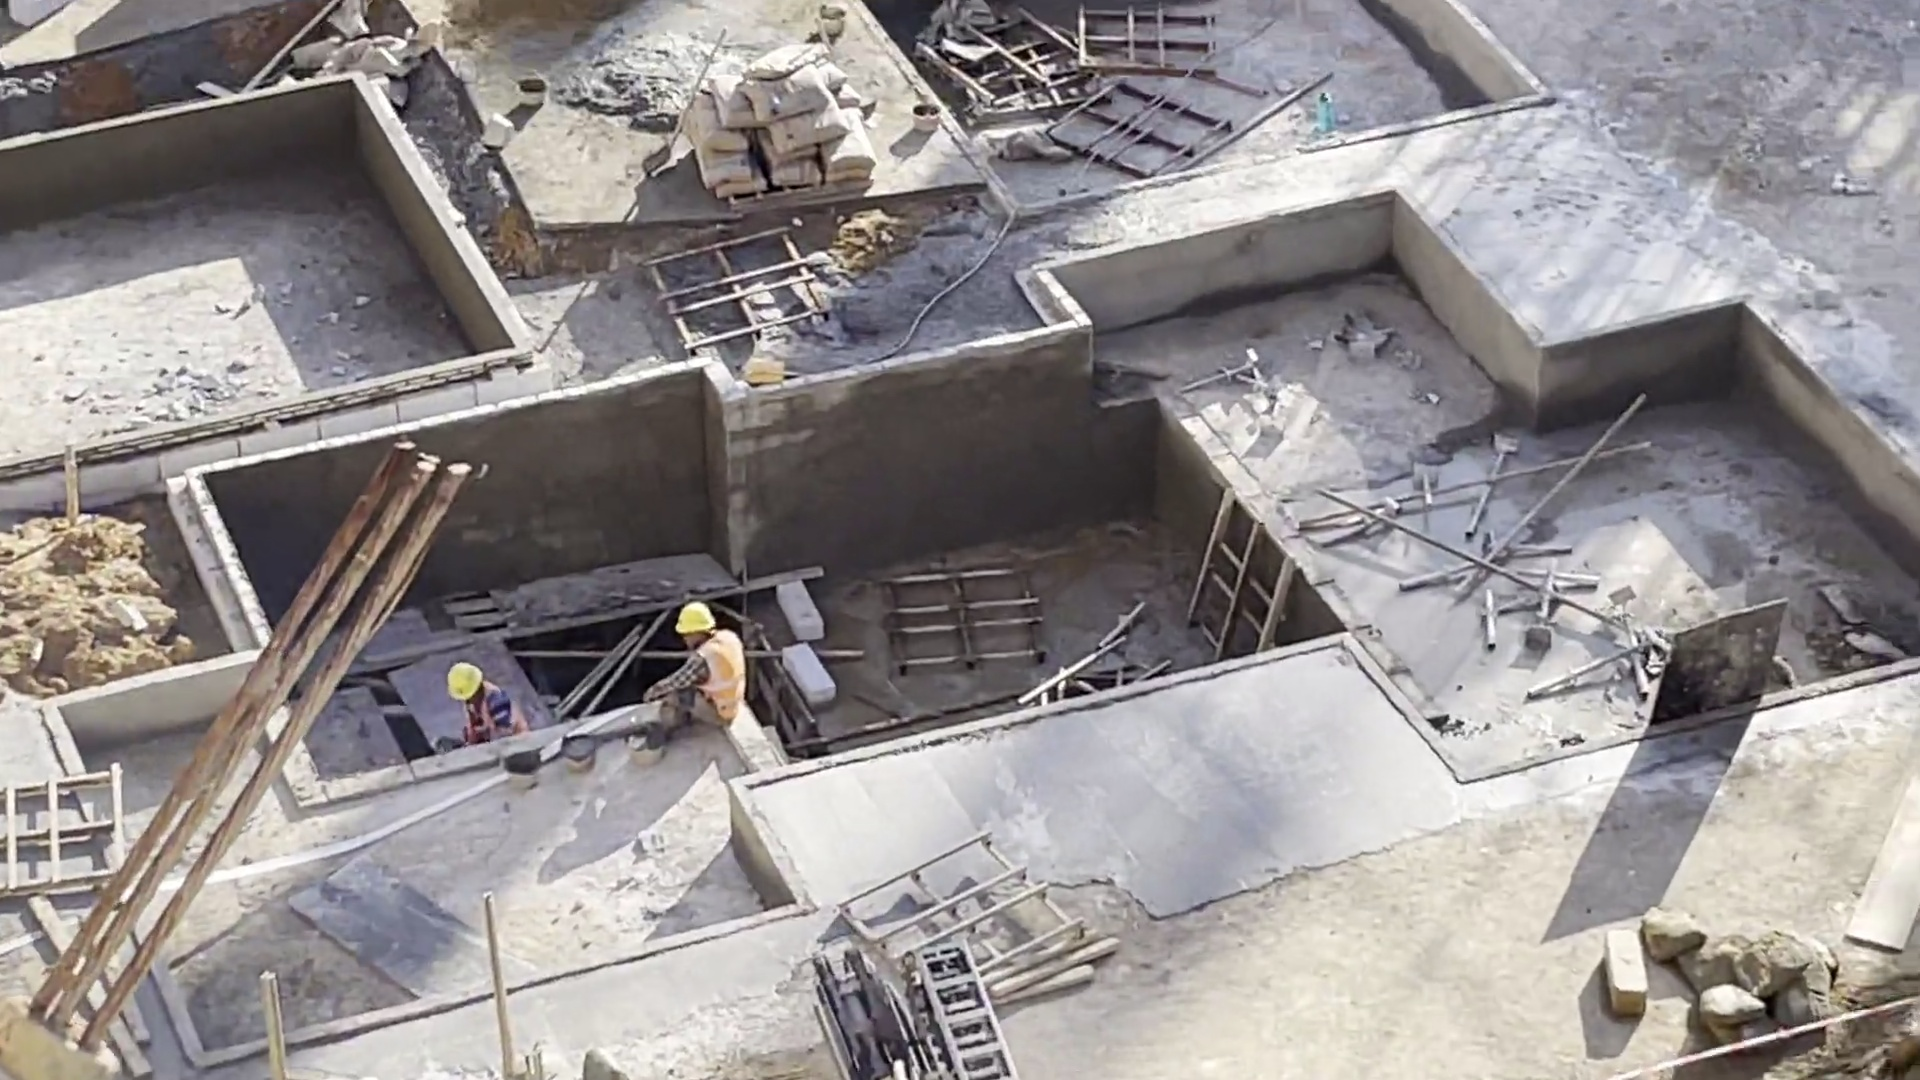helmet: (437, 657, 481, 705), (678, 597, 719, 637)
person: (662, 602, 749, 739), (425, 658, 521, 763)
vest: (683, 641, 760, 720)
